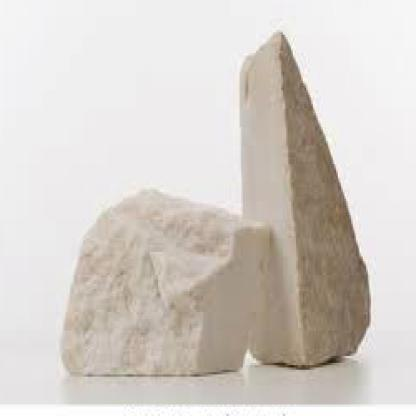Metamorphic_Marble: (238, 14, 376, 386), (48, 185, 273, 377)
